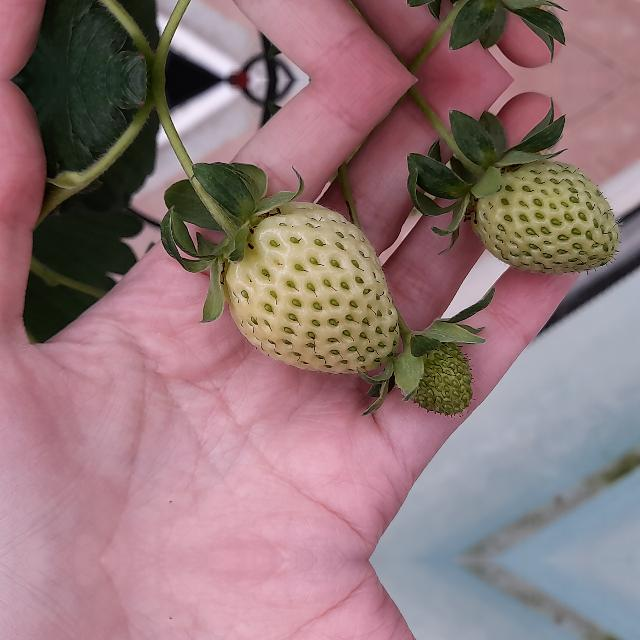Health_25: (226, 200, 398, 374), (470, 154, 618, 274), (400, 334, 476, 414)
